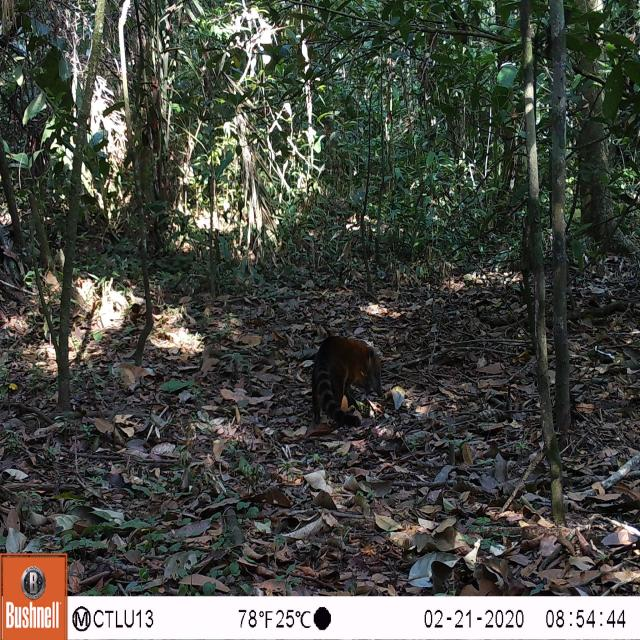South American Coati: (300, 325, 393, 433)
